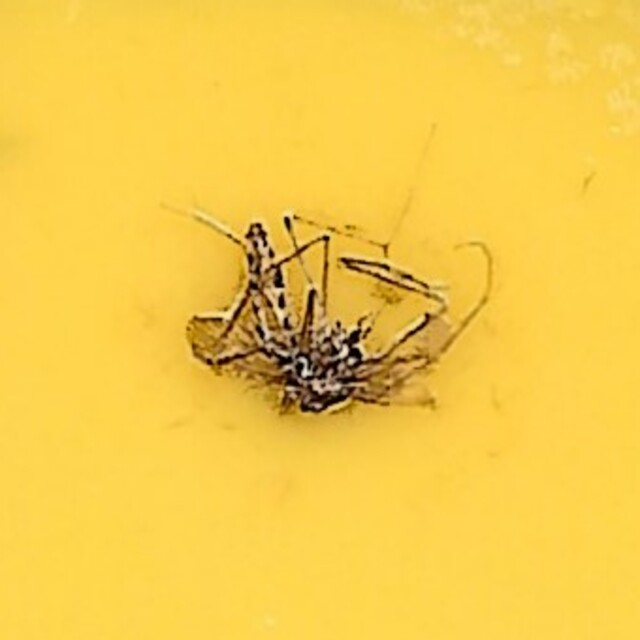Nematocera: (188, 215, 452, 425)
